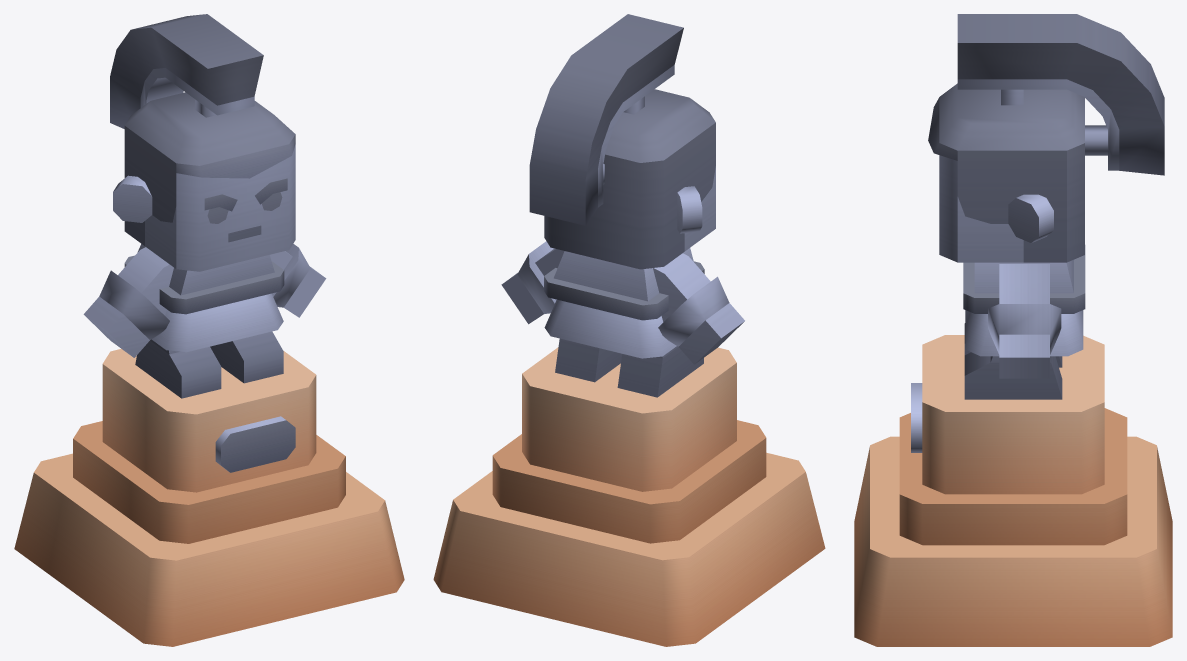
The picture shows the model from 3 angles, left to right: view 1: azimuth 30°, elevation 25°; view 2: azimuth 150°, elevation 25°; view 3: azimuth 270°, elevation 25°; orthographic projection. The views are drawn at different scales.
Parts seen in each view (by area): view 1: statue; view 2: statue; view 3: statue.
Boxes of the visible parts, bbox=[...] form: statue: bbox=[14, 14, 404, 646]; statue: bbox=[433, 14, 825, 646]; statue: bbox=[854, 14, 1172, 646].
Size of the model in its own units: 0.7 by 1.34 by 0.7.
1 material, 1 textured.
